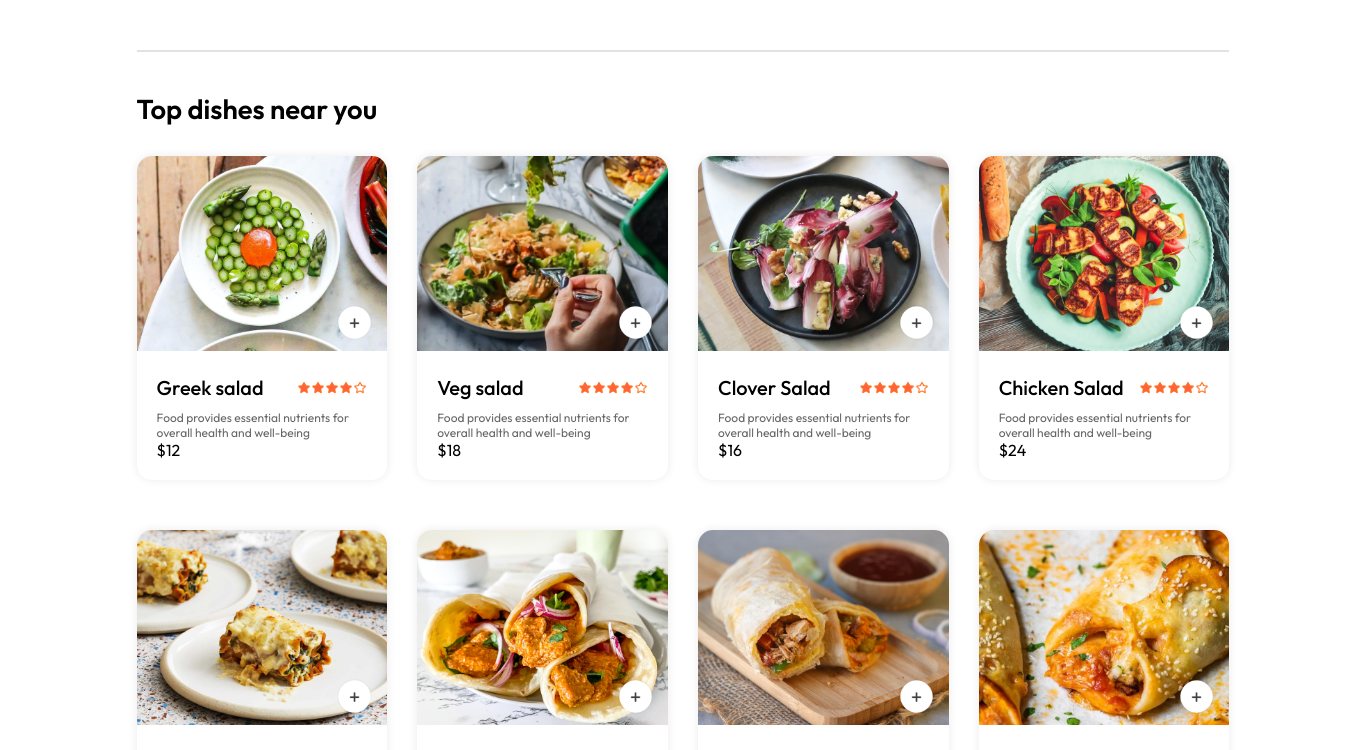
Test: FoodItem Component Tests › should remove item from cart
(page scrolled)
Click the 1st picture with test id "add-icon1". click: (355, 323)
box: [337, 305, 372, 340]
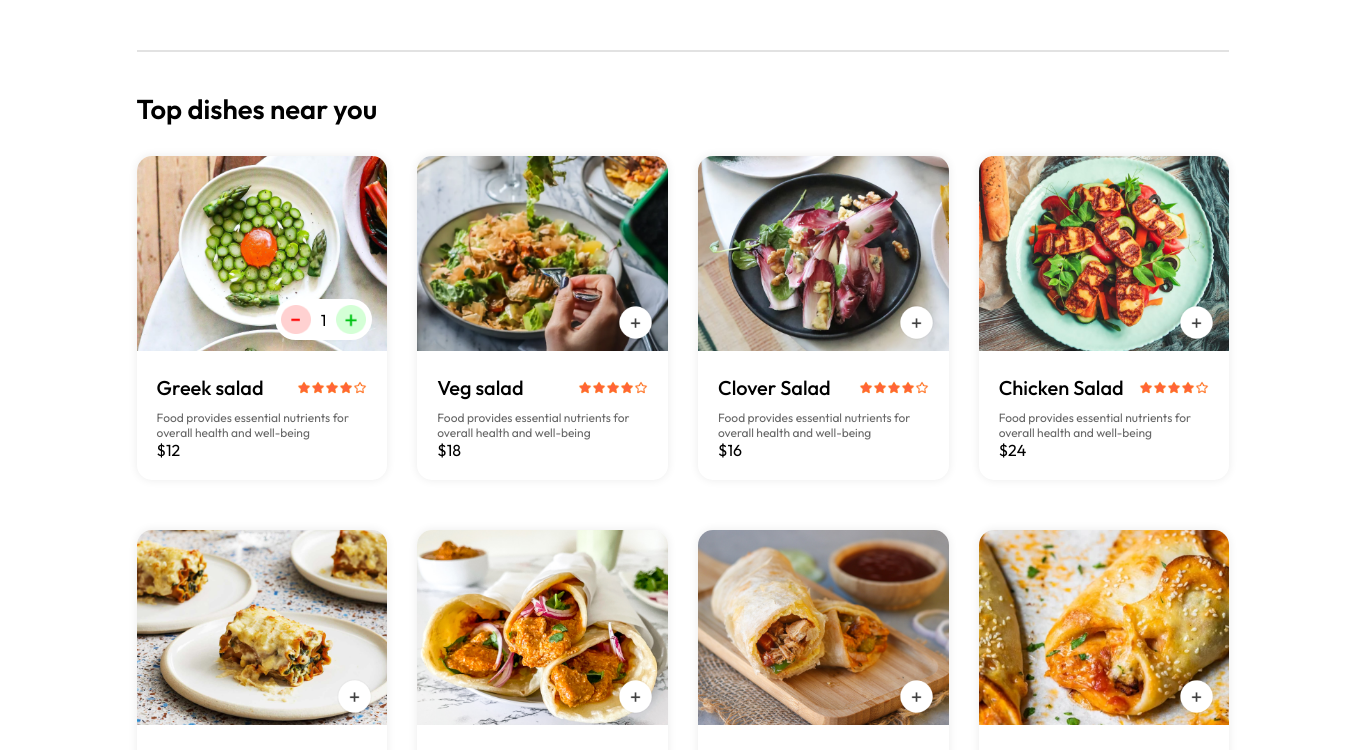
Click the picture with test id ".food-item-counter img[data-testid=\"remove-icon\"]". click: (296, 320)
box: [281, 305, 311, 334]
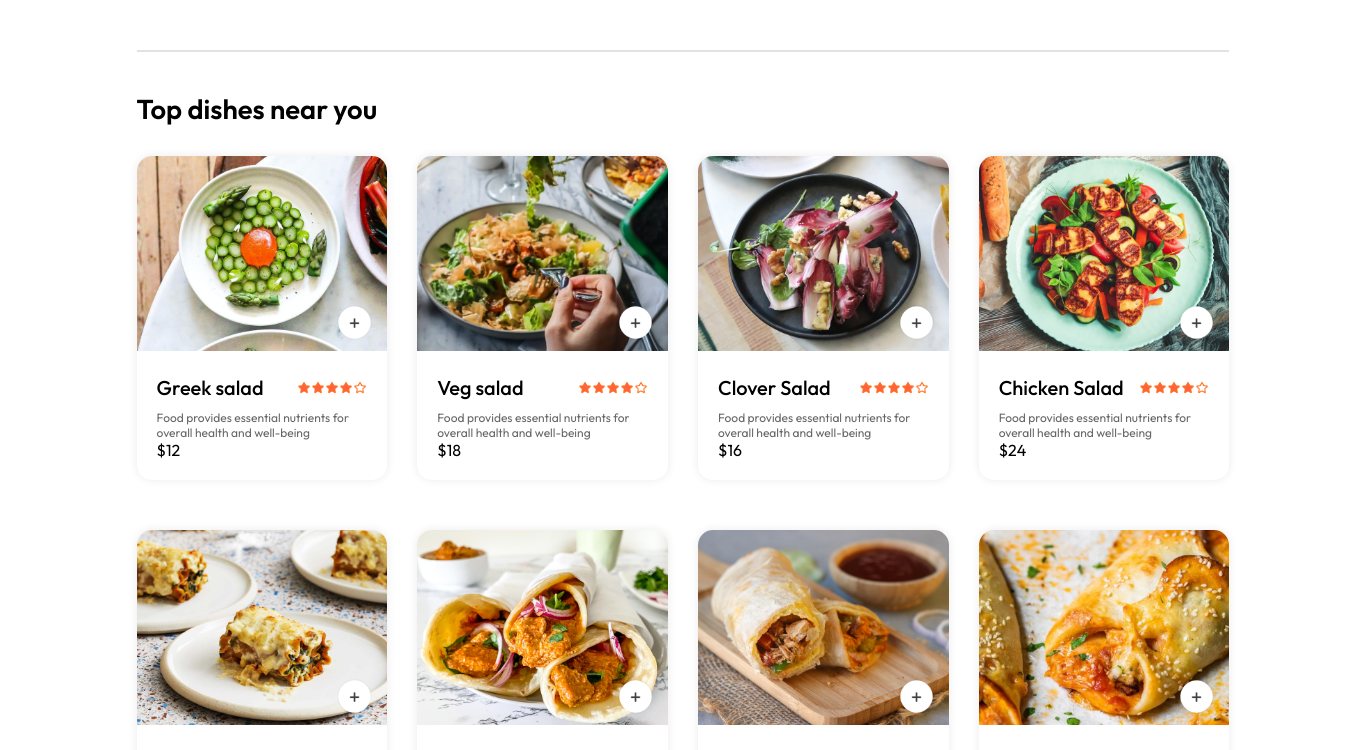
Check: the 1st picture with test id "add-icon1" is shown, box [337, 305, 372, 340]
